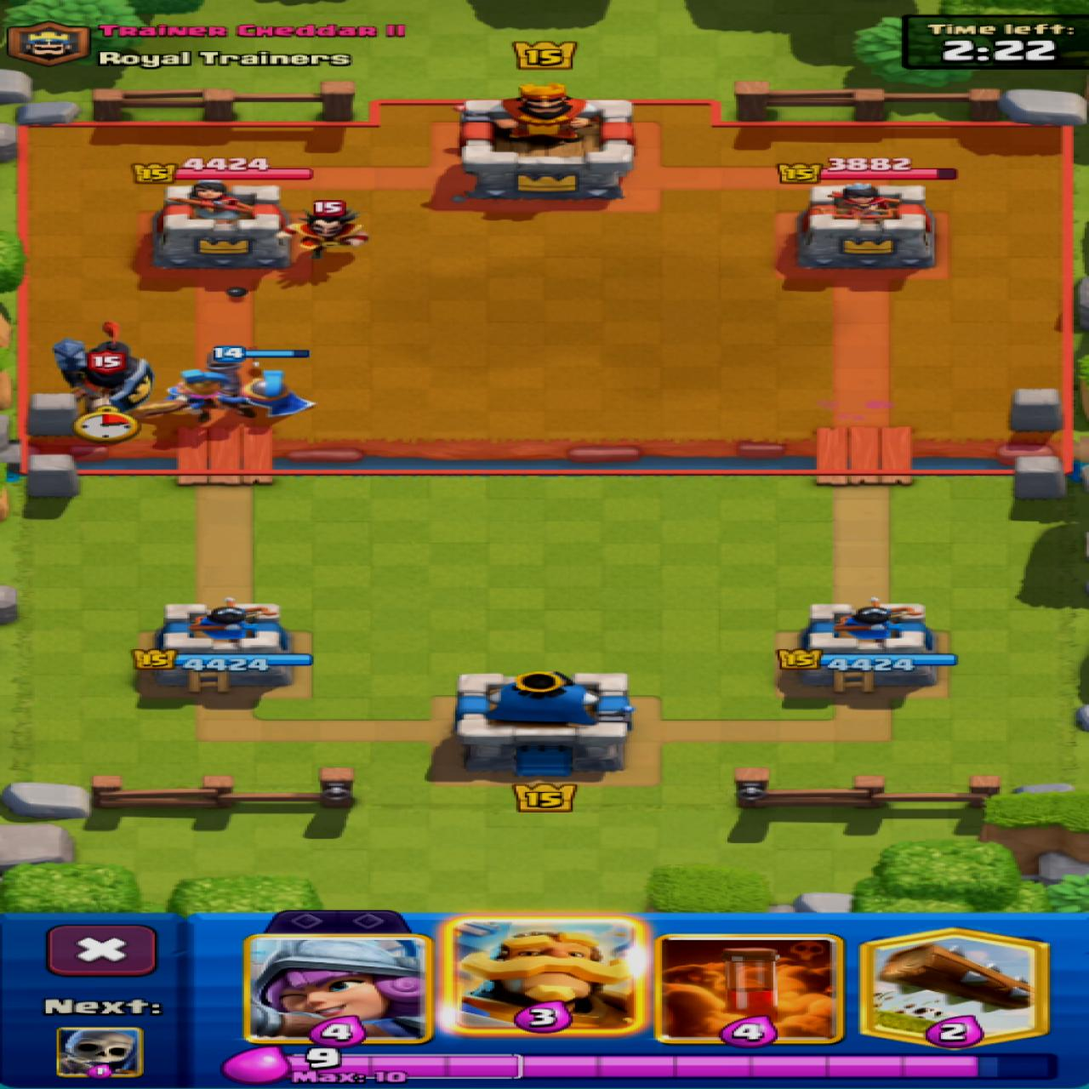Enemy-DarkPrince-Shield: (54, 323, 152, 412)
Enemy-ElectroWizard: (279, 209, 366, 258)
Enemy-KingTower: (457, 84, 634, 198)
Enemy-PrincessTower: (152, 180, 287, 267), (797, 185, 934, 268)
